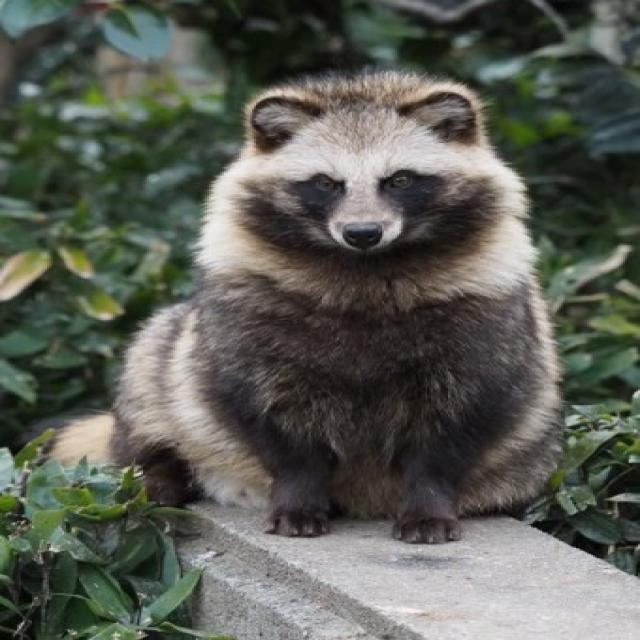racoon: (187, 80, 566, 543)
